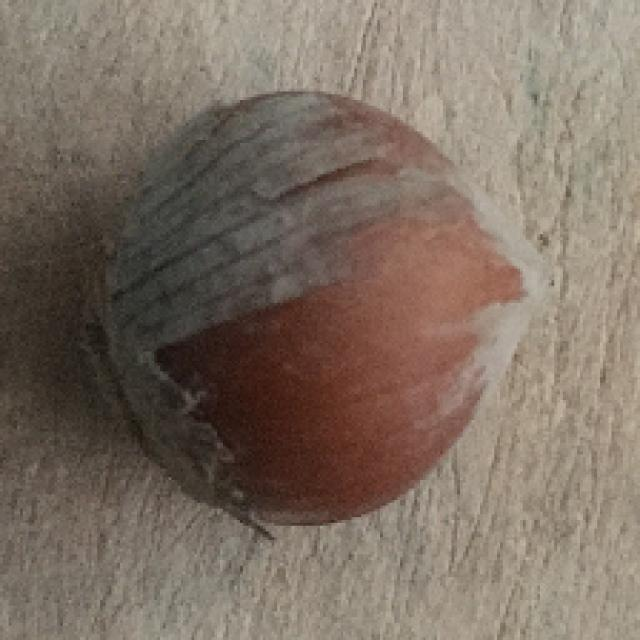damagedHazelnut: (77, 88, 542, 540)
